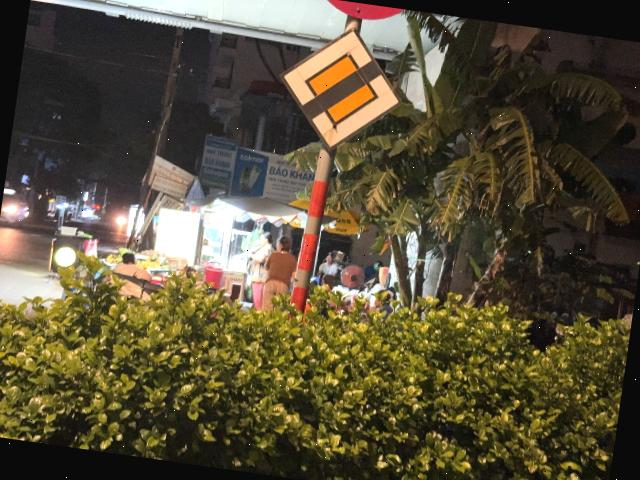het-duong-uu-tien: (270, 18, 412, 162)
